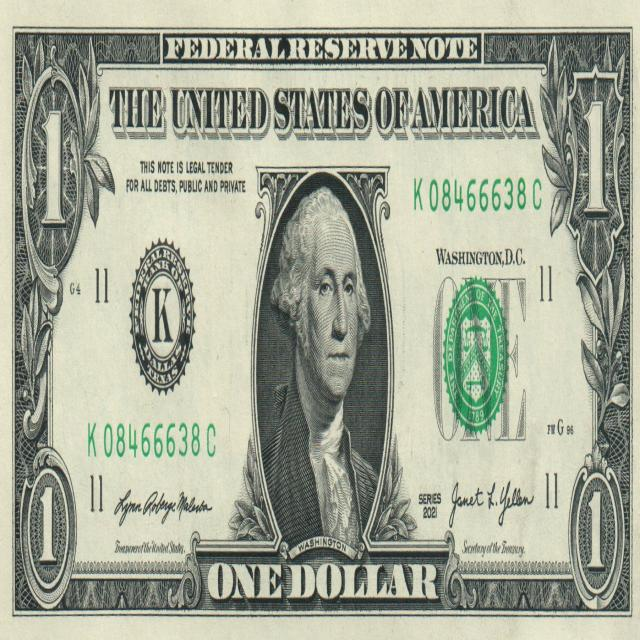SerialNumber: (88, 423, 215, 458), (414, 178, 541, 212)
